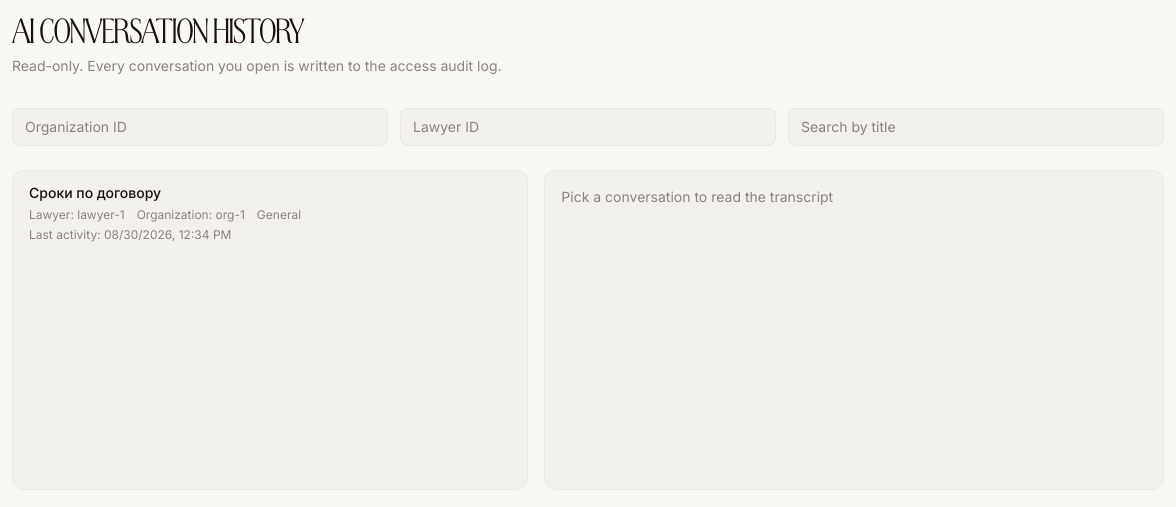
Test: AiConversationsPage › loads the transcript only after a conversation is picked
The image size is (1176, 507).
Click the text "Сроки по договору": x=95, y=192 [29,184,161,201]
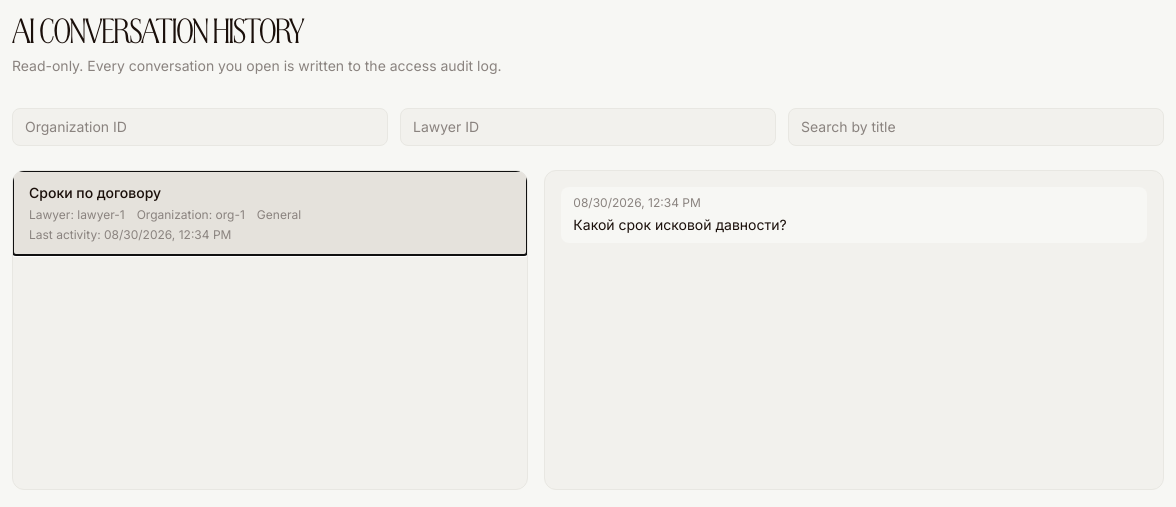
Check: the text "Какой срок исковой давности?" is shown, box [573,216,787,233]
